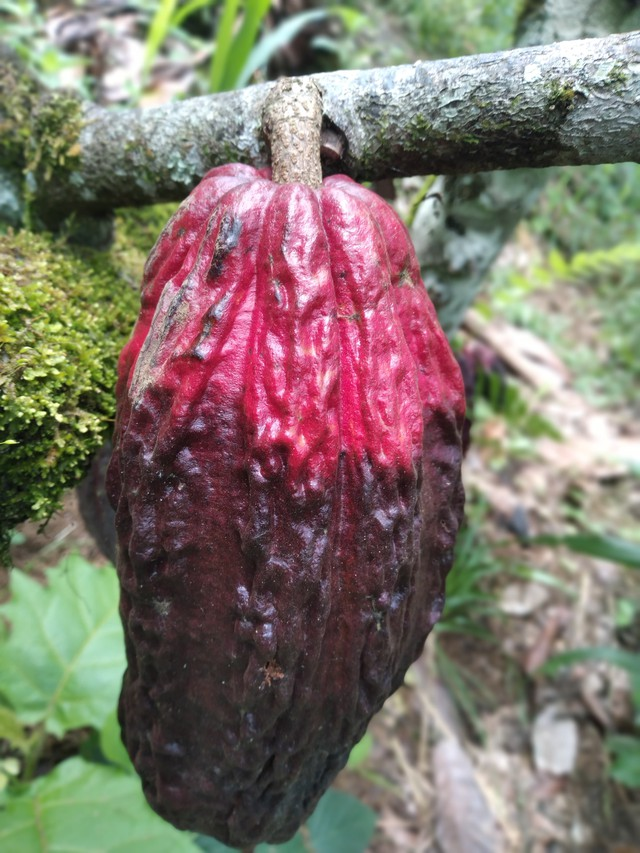phytophthora palmivora: (102, 155, 478, 849)
